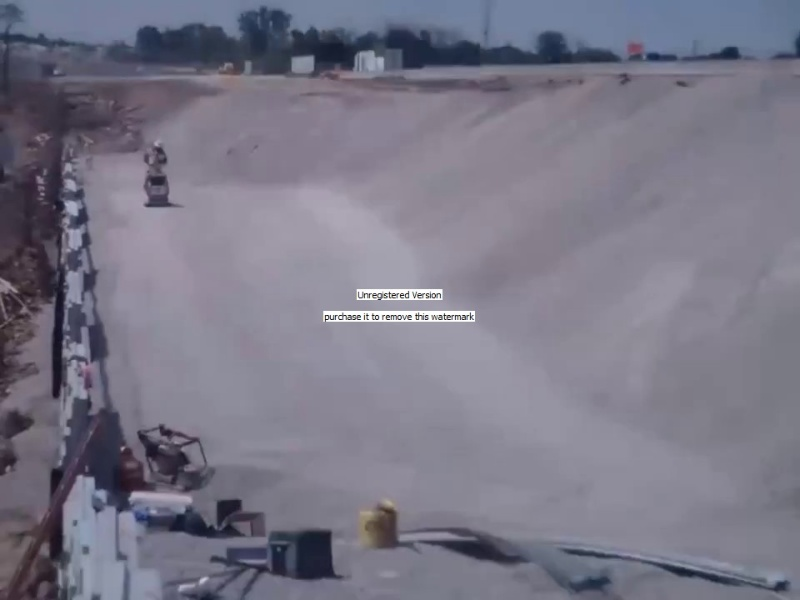hardhat: (153, 140, 166, 150)
person: (142, 140, 170, 170)
wall: (56, 153, 156, 600)
